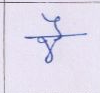ai_matra: (42, 13, 65, 35)
